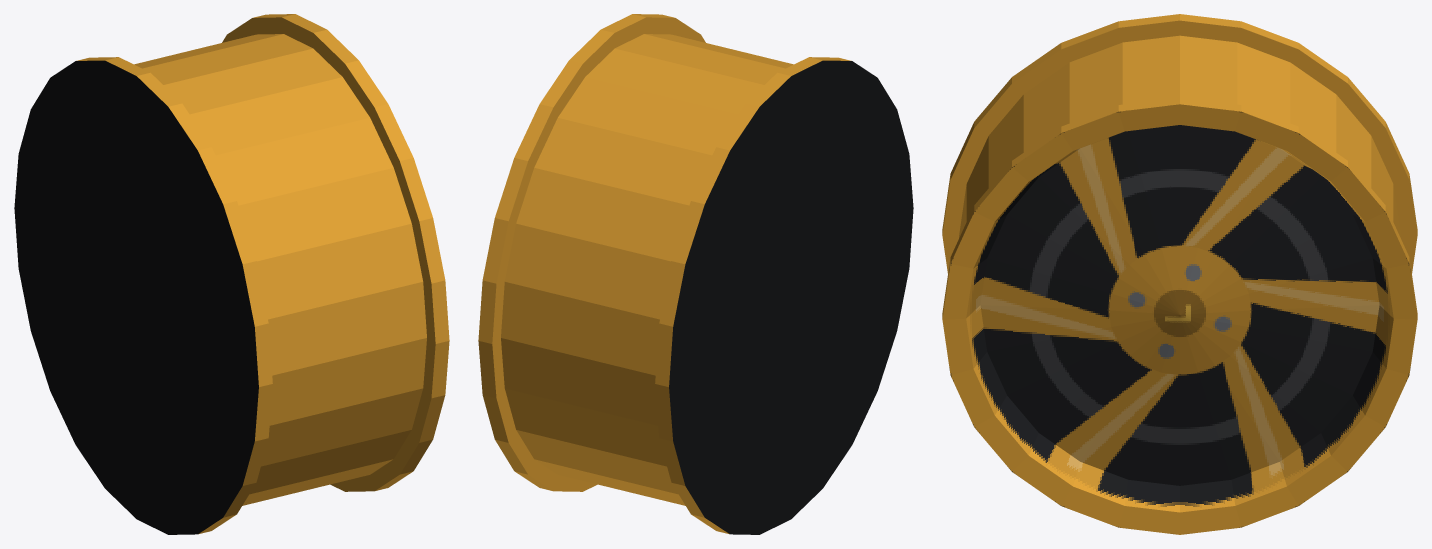
The model's file is lumiar_lamina_15.glb.
3 views of the same model, side by side, from view 1: azimuth 30°, elevation 25°; view 2: azimuth 150°, elevation 25°; view 3: azimuth 270°, elevation 25° (orthographic). The views are drawn at different scales.
Visible parts, largest first — view 1: lumiar_lamina_15; view 2: lumiar_lamina_15; view 3: lumiar_lamina_15.
Boxes of the visible parts, left/top/right/bottom form: lumiar_lamina_15: left=14, top=14, right=449, bottom=534; lumiar_lamina_15: left=478, top=14, right=913, bottom=534; lumiar_lamina_15: left=942, top=14, right=1417, bottom=534.
Size of the model in its own units: 0.192 by 0.4267 by 0.4267.
Materials: 1 (1 with a texture image).
